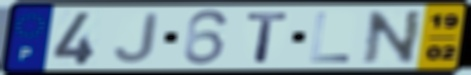4: (51, 9, 100, 68)
6: (182, 8, 231, 68)
J: (112, 11, 162, 65)
L: (308, 11, 353, 64)
N: (361, 9, 426, 66)
T: (244, 11, 293, 64)
